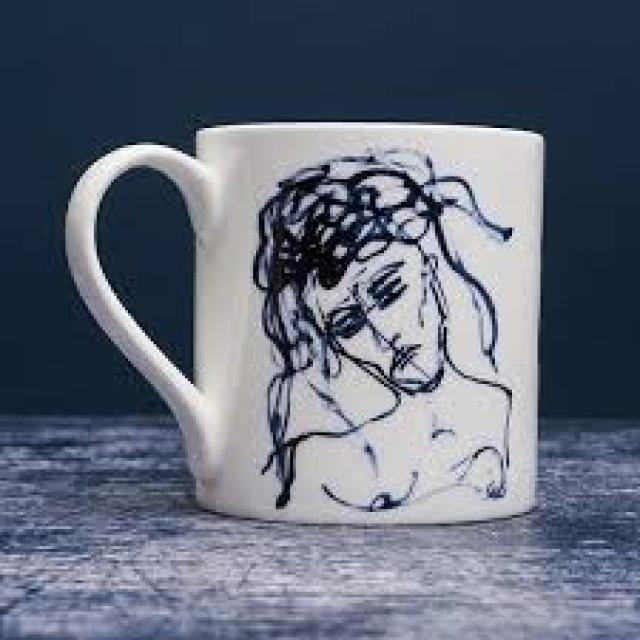taza: (65, 121, 546, 528)
